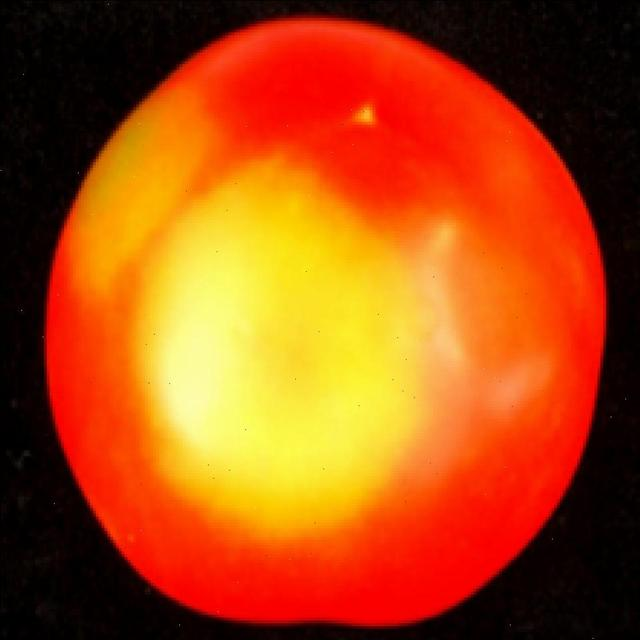Spotted wilt Virus Fruit: (28, 11, 405, 419)
